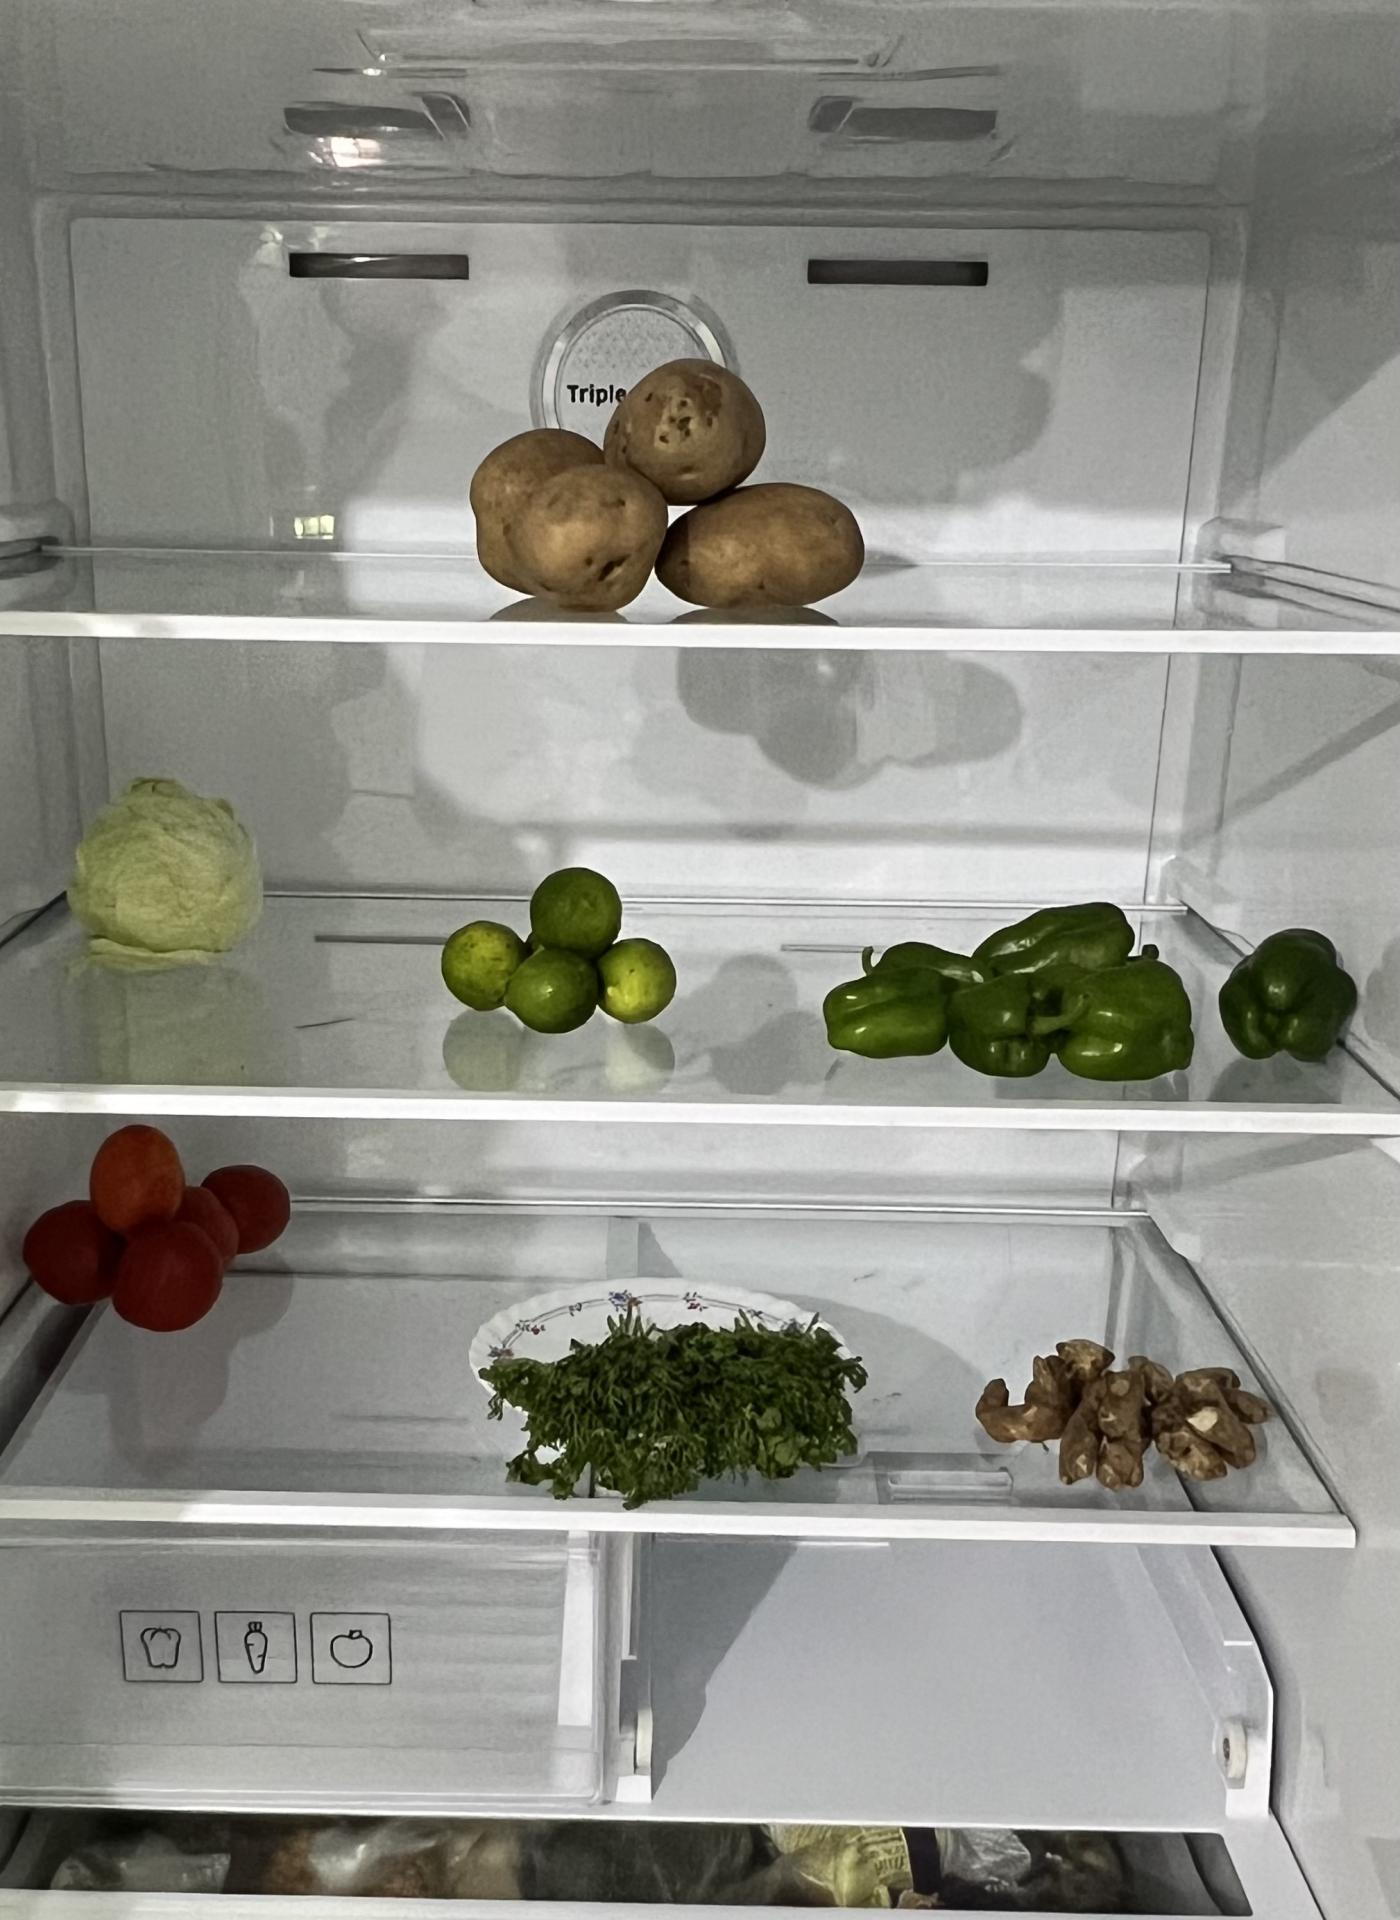cabbage: (72, 771, 258, 960)
capsicum: (817, 900, 1191, 1076), (1217, 921, 1363, 1058)
coriander: (479, 1294, 868, 1498)
ginger: (978, 1331, 1273, 1489)
lemon: (444, 860, 677, 1033)
potato: (468, 350, 869, 607)
tomato: (22, 1121, 289, 1337)
